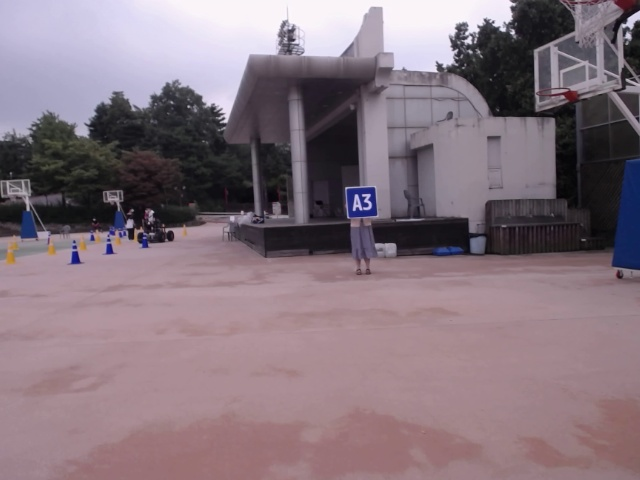delivery_a3: (346, 187, 378, 218)
